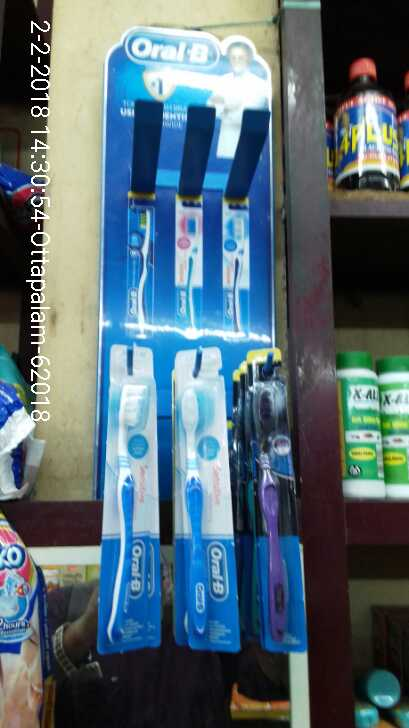oralb: (169, 347, 239, 651), (95, 345, 164, 646), (243, 350, 312, 649)
